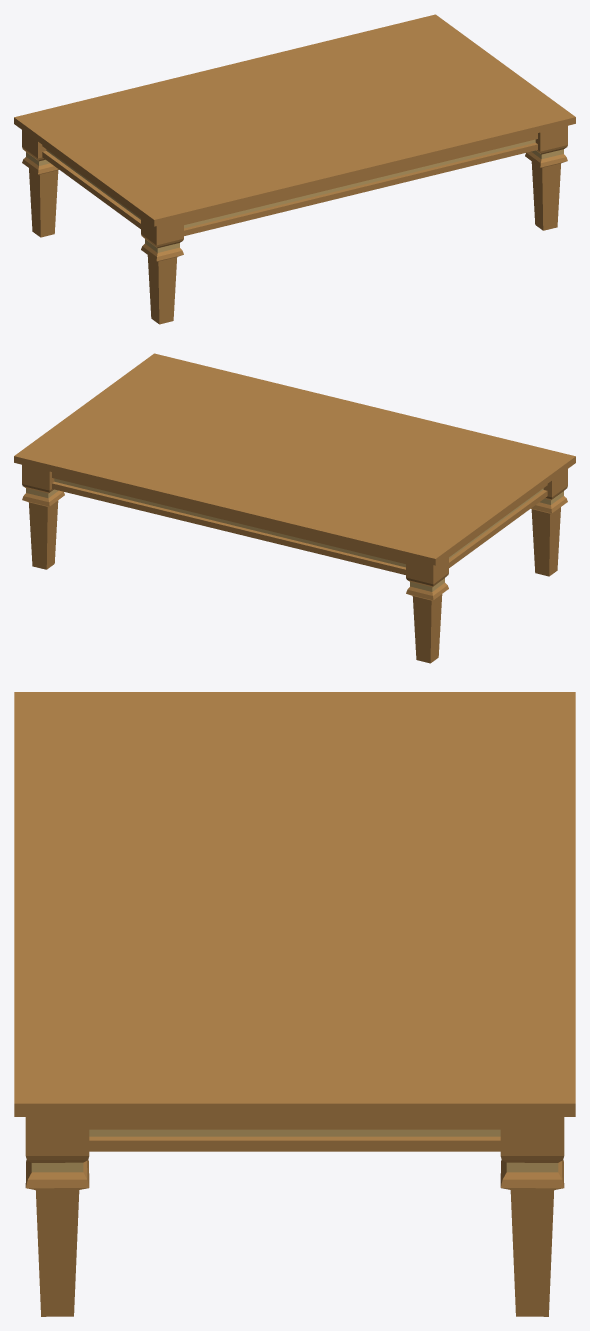
File: table.fbx
The picture shows the model from 3 angles, top to bottom: view 1: azimuth 30°, elevation 25°; view 2: azimuth 150°, elevation 25°; view 3: azimuth 270°, elevation 25°; orthographic projection. The views are drawn at different scales.
Parts seen in each view (by area): view 1: Table; view 2: Table; view 3: Table.
Boxes of the visible parts, bbox=[...] form: Table: bbox=[14, 14, 575, 324]; Table: bbox=[14, 353, 575, 663]; Table: bbox=[14, 692, 575, 1316].
Bounding box in the file's own units: 390 × 99.19 × 225.
